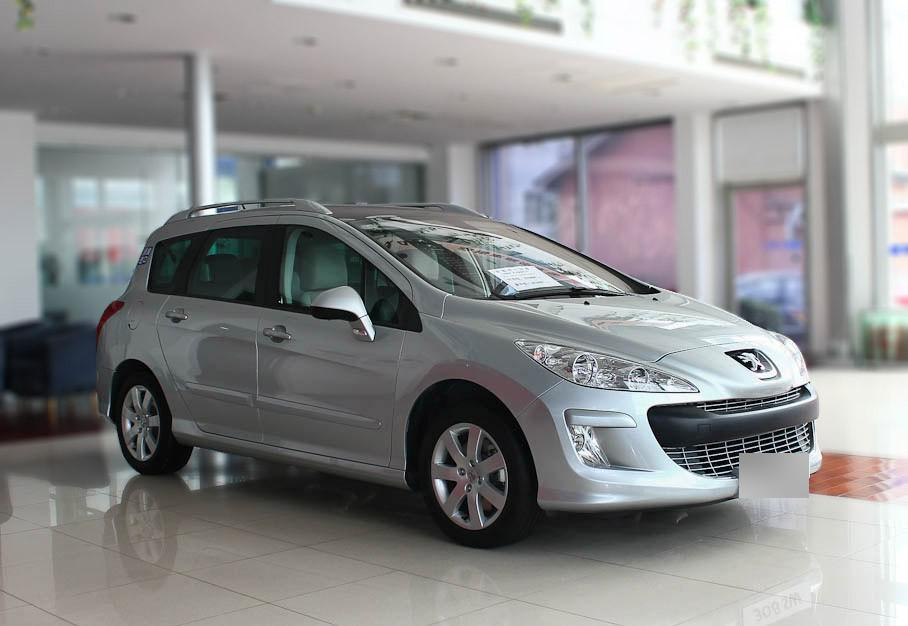Wagon: (97, 196, 821, 549)
